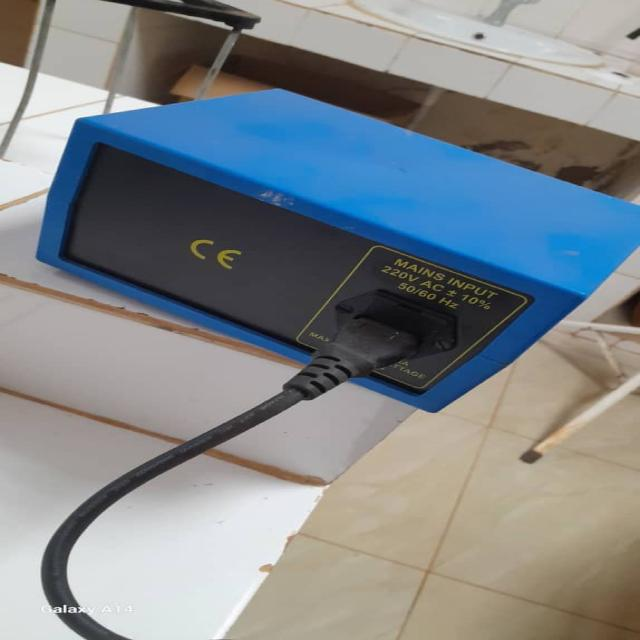Power Supply: (4, 101, 636, 402)
